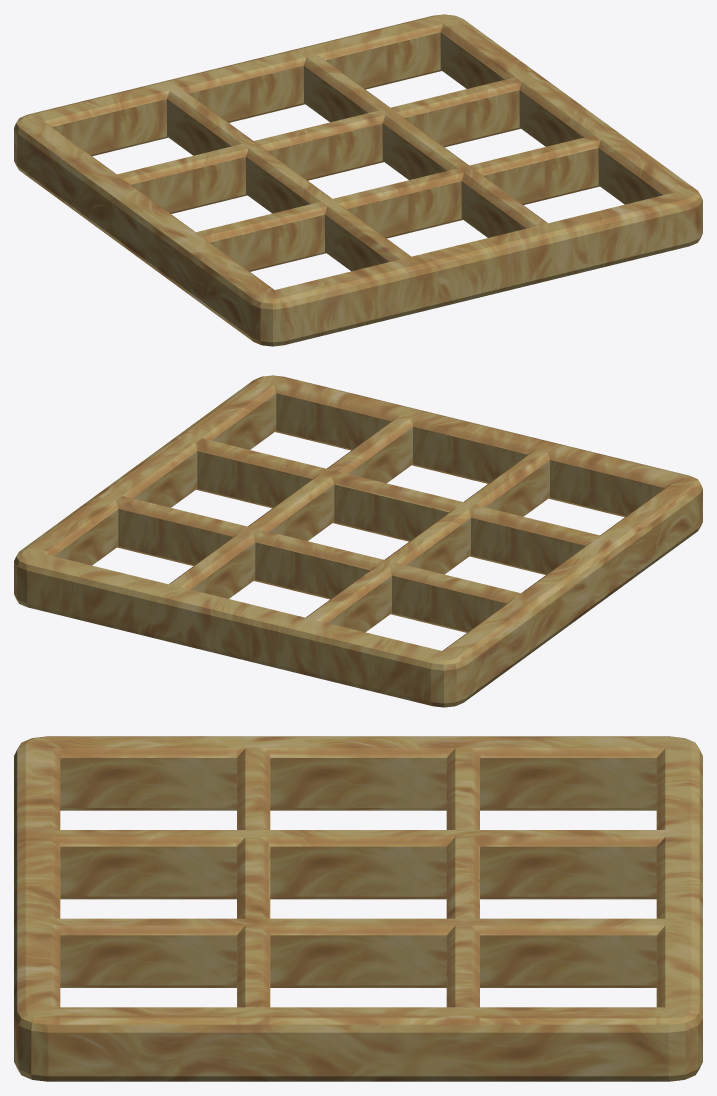
Rendered from Board.fbx.
3 renders of one model, top to bottom at view 1: azimuth 30°, elevation 25°; view 2: azimuth 150°, elevation 25°; view 3: azimuth 270°, elevation 25°, orthographic. The views are drawn at different scales.
Parts seen in each view (by area): view 1: Frame; view 2: Frame; view 3: Frame.
Boxes of the visible parts, box(x1,y1,x2,y2) form: Frame: box(14, 14, 702, 346); Frame: box(14, 375, 702, 707); Frame: box(14, 736, 702, 1081).
Bounding box in the file's own units: 200 × 20 × 200.
Materials: 1 (1 with a texture image).
